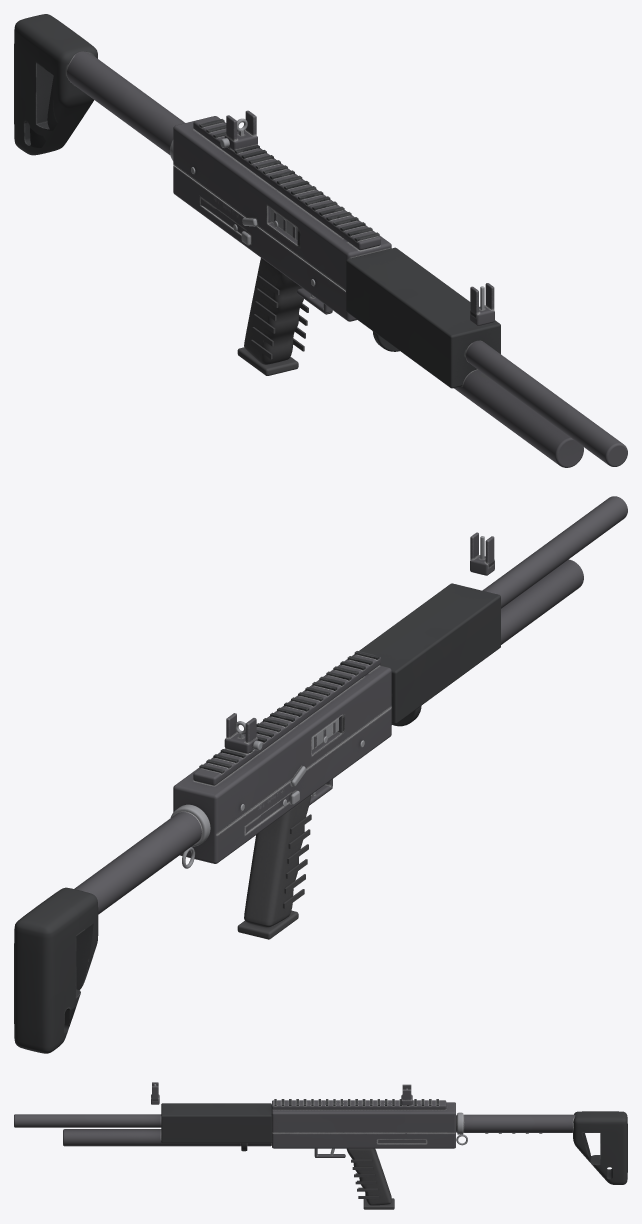
3 views of the same model, one above another, from view 1: azimuth 30°, elevation 25°; view 2: azimuth 150°, elevation 25°; view 3: azimuth 270°, elevation 25° (orthographic). The views are drawn at different scales.
Visible parts, largest first — view 1: xm1014; view 2: xm1014; view 3: xm1014.
Boxes of the visible parts, x1=… form: xm1014: x1=14, y1=14, x2=627, y2=467; xm1014: x1=14, y1=496, x2=627, y2=1053; xm1014: x1=14, y1=1082, x2=627, y2=1209.
Bounding box in the file's own units: 0.051 × 0.2182 × 0.9999.
